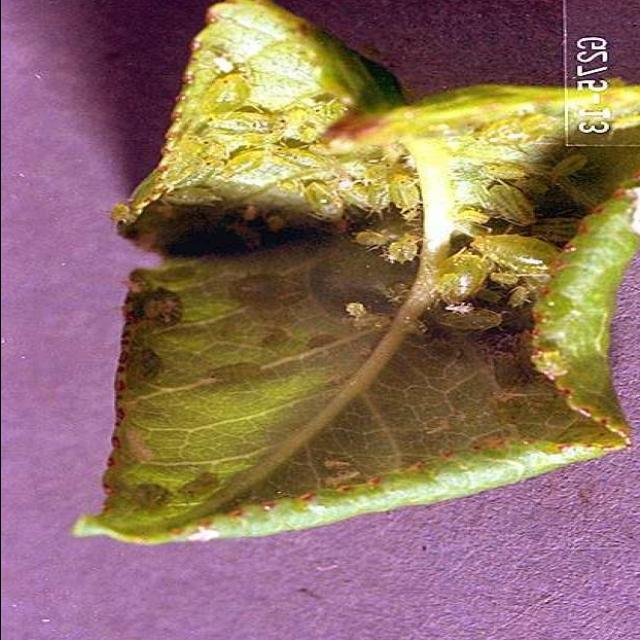Aphids: (129, 55, 609, 357), (114, 472, 225, 524), (198, 342, 280, 407)
